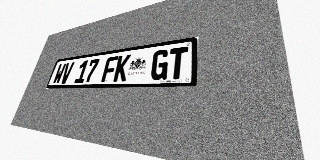1: (74, 60, 90, 83)
7: (83, 59, 100, 83)
F: (101, 56, 118, 82)
G: (150, 49, 170, 80)
K: (113, 54, 131, 82)
T: (167, 46, 188, 80)
V: (59, 62, 74, 84)
W: (52, 63, 67, 84)
